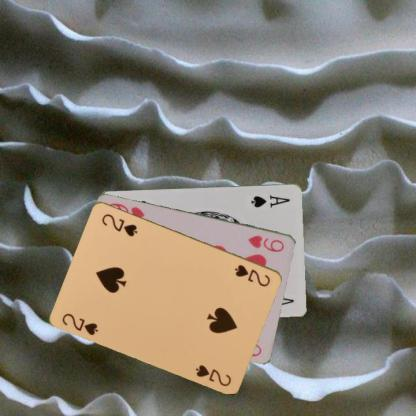2s: (59, 310, 100, 337), (232, 262, 272, 288)
9h: (246, 232, 286, 254)
As: (249, 191, 292, 209)
